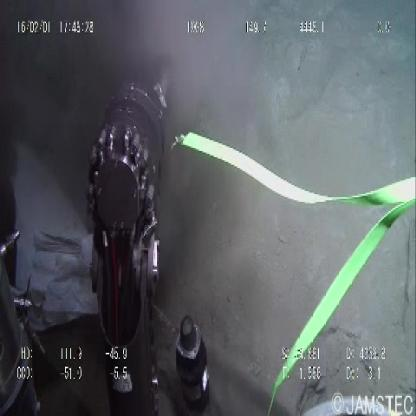Rov: (84, 71, 212, 410)
Rác: (1, 148, 108, 340)
